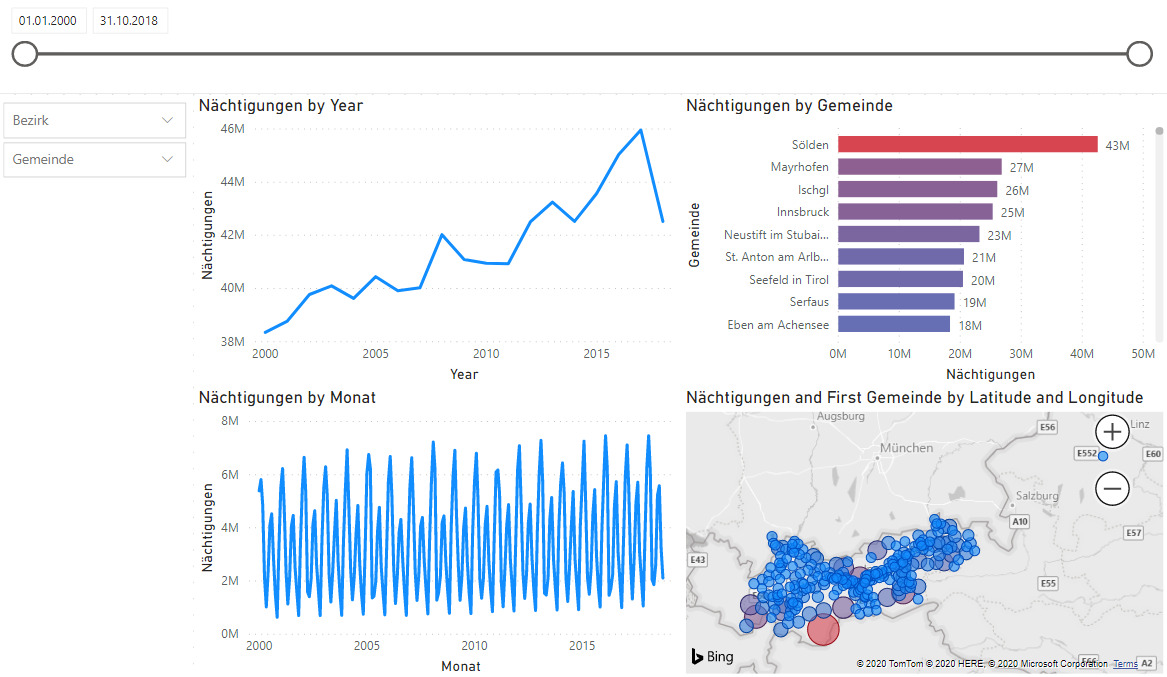

The page's visual inventory and layout, read from the dashboard file:
{"tool":"powerbi","page":{"name":"Page 1","canvas":[1280,720],"ordinal":0},"visuals":[{"type":"slicer","fields":{"Values":["tirol-nächtigungen-2000-2018.Monat"]},"box":[96,0,1152,96],"z":0},{"type":"barChart","fields":{"Y":["Sum(tirol-nächtigungen-2000-2018.Nächtigungen)"],"Category":["tirol-nächtigungen-2000-2018.Gemeinde"]},"box":[768,96,480,288],"z":1000},{"type":"lineChart","fields":{"Category":["tirol-nächtigungen-2000-2018.Monat.Variation.Date Hierarchy.Year"],"Y":["Sum(tirol-nächtigungen-2000-2018.Nächtigungen)"]},"box":[288,384,480,288],"z":3000},{"type":"map","fields":{"Y":["tirol-nächtigungen-2000-2018.Latitude"],"X":["tirol-nächtigungen-2000-2018.Longitude"],"Size":["Sum(tirol-nächtigungen-2000-2018.Nächtigungen)"]},"box":[768,384,480,288],"z":4000},{"type":"lineChart","fields":{"Category":["tirol-nächtigungen-2000-2018.Monat.Variation.Date Hierarchy.Year","tirol-nächtigungen-2000-2018.Monat.Variation.Date Hierarchy.Quarter","tirol-nächtigungen-2000-2018.Monat.Variation.Date Hierarchy.Month","tirol-nächtigungen-2000-2018.Monat.Variation.Date Hierarchy.Day"],"Y":["Sum(tirol-nächtigungen-2000-2018.Nächtigungen)"]},"box":[288,96,480,288],"z":5000},{"type":"SmartFilterBySQLBI1458262140625","fields":{"Values":["tirol-nächtigungen-2000-2018.Bezirk","tirol-nächtigungen-2000-2018.Gemeinde"]},"box":[96,96,192,576],"z":5002}]}

Visuals, with their boxes on the page's 1280x720 design canvas (x1, y1, x2, y2). These are canvas units, not pixel positions in the 1167x677 screenshot, which may show the page scaled, cropped or inside an application window:
slicer - tirol-nächtigungen-2000-2018.Monat: crop(96, 0, 1248, 96)
barChart - Sum(tirol-nächtigungen-2000-2018.Nächtigungen) x tirol-nächtigungen-2000-2018.Gemeinde: crop(768, 96, 1248, 384)
lineChart - tirol-nächtigungen-2000-2018.Monat.Variation.Date Hierarchy.Year x Sum(tirol-nächtigungen-2000-2018.Nächtigungen): crop(288, 384, 768, 672)
map - tirol-nächtigungen-2000-2018.Latitude x tirol-nächtigungen-2000-2018.Longitude: crop(768, 384, 1248, 672)
lineChart - tirol-nächtigungen-2000-2018.Monat.Variation.Date Hierarchy.Year x tirol-nächtigungen-2000-2018.Monat.Variation.Date Hierarchy.Quarter: crop(288, 96, 768, 384)
SmartFilterBySQLBI1458262140625 - tirol-nächtigungen-2000-2018.Bezirk x tirol-nächtigungen-2000-2018.Gemeinde: crop(96, 96, 288, 672)
